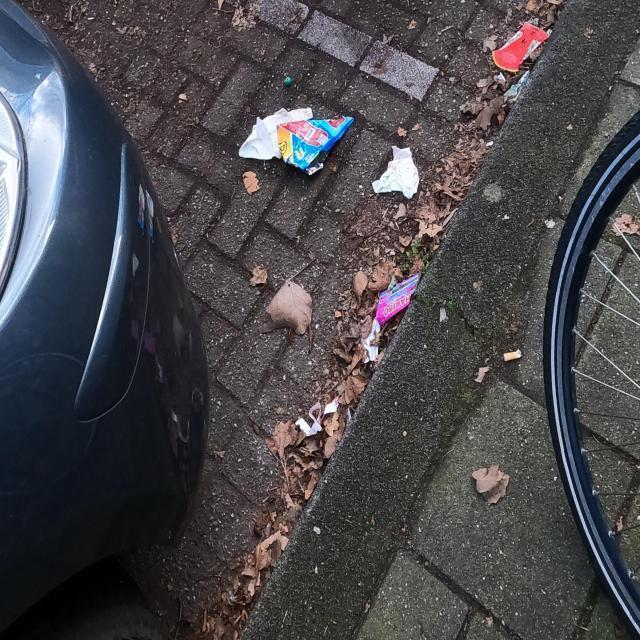Paper: (238, 106, 314, 160), (371, 142, 421, 204), (492, 21, 552, 72)
Plastic: (276, 116, 356, 177), (374, 272, 420, 328)
